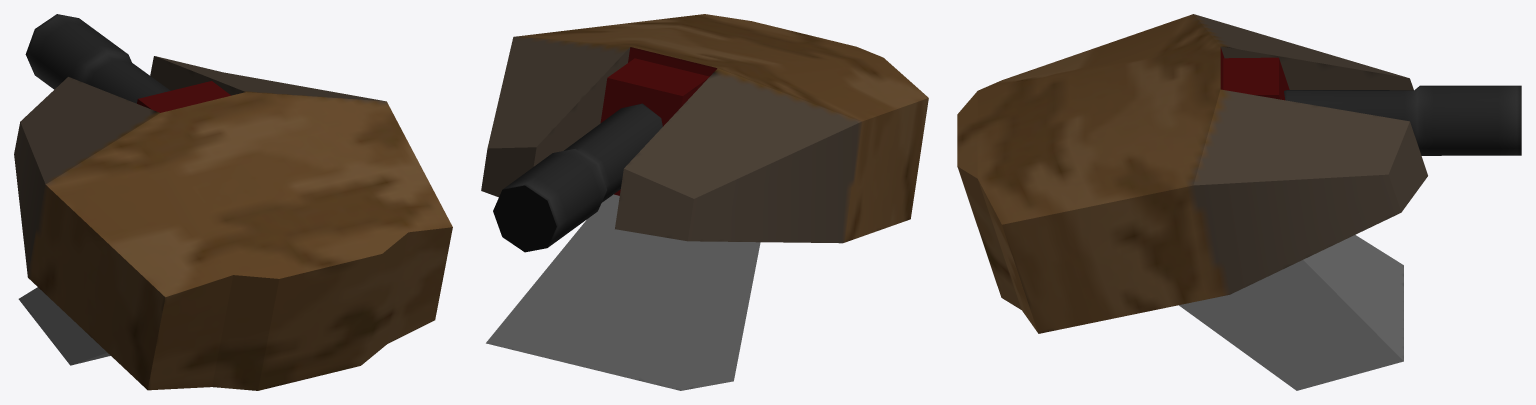
The model's file is turret.fbx.
3 renders of one model, left to right at view 1: azimuth 30°, elevation 25°; view 2: azimuth 150°, elevation 25°; view 3: azimuth 270°, elevation 25°, orthographic. The views are drawn at different scales.
Parts seen in each view (by area): view 1: pTurret; view 2: pTurret; view 3: pTurret.
Part boxes in pixels (<box>): pTurret: <box>14,14,452,390</box>; pTurret: <box>481,14,928,390</box>; pTurret: <box>957,14,1521,390</box>.
Bounding box in the file's own units: 2.92 × 2.18 × 4.06.
1 material, 1 textured.
